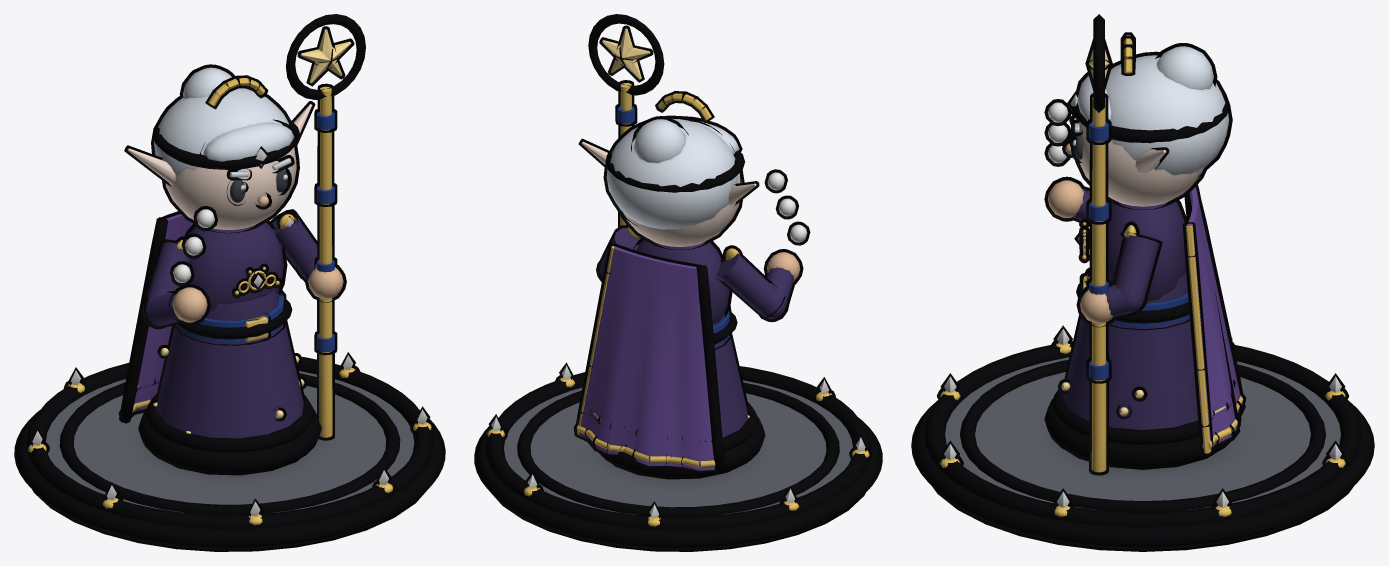
Rendered from star_speaker_s5.fbx.
3 renders of one model, left to right at view 1: azimuth 30°, elevation 25°; view 2: azimuth 150°, elevation 25°; view 3: azimuth 270°, elevation 25°, orthographic. The views are drawn at different scales.
Visible parts, largest first — view 1: star_speaker_s5; view 2: star_speaker_s5; view 3: star_speaker_s5.
Part boxes in pixels (box(x1,y1,x2,y2)): star_speaker_s5: box(14, 14, 445, 551); star_speaker_s5: box(474, 14, 882, 551); star_speaker_s5: box(911, 14, 1374, 551).
Bounding box in the file's own units: 1.58 × 1.81 × 1.58.
Materials: 2 (1 with a texture image).
